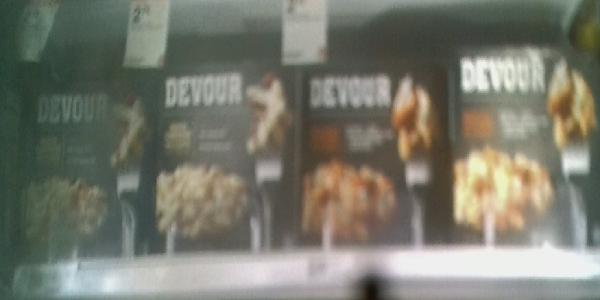pizza1: (449, 43, 599, 243), (154, 70, 300, 247), (304, 61, 444, 239), (18, 79, 155, 255)
